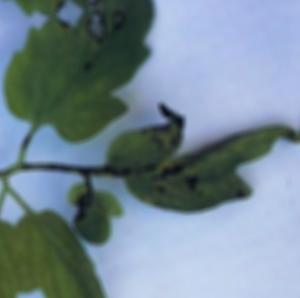Tomato leaf bacterial spot: (93, 80, 300, 223), (0, 0, 185, 156)
